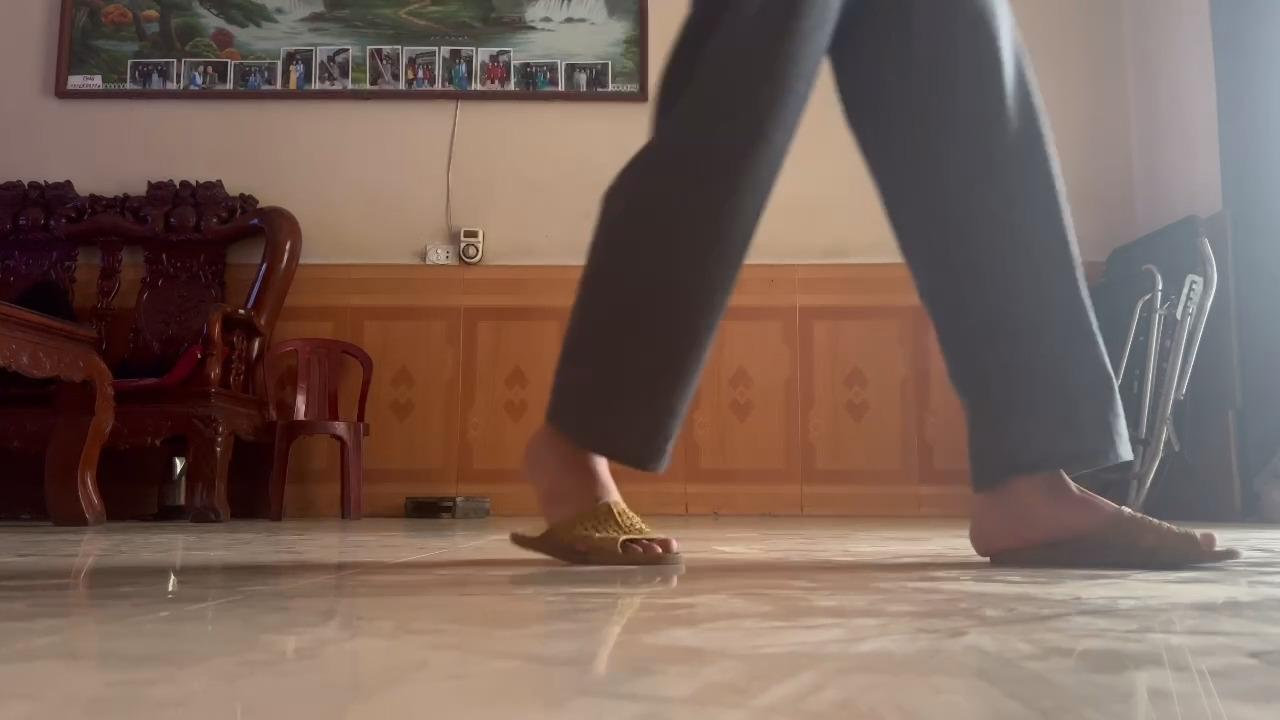no-boot: (503, 433, 685, 570), (963, 487, 1239, 576)
